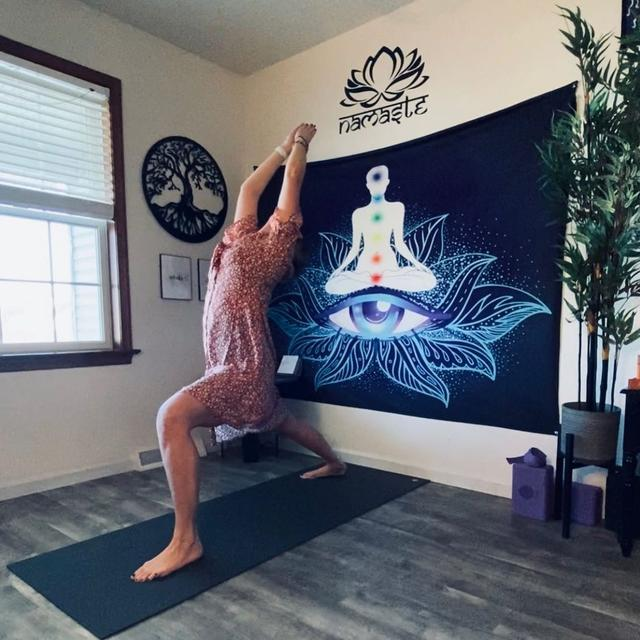Warrior_I: (118, 112, 354, 586)
